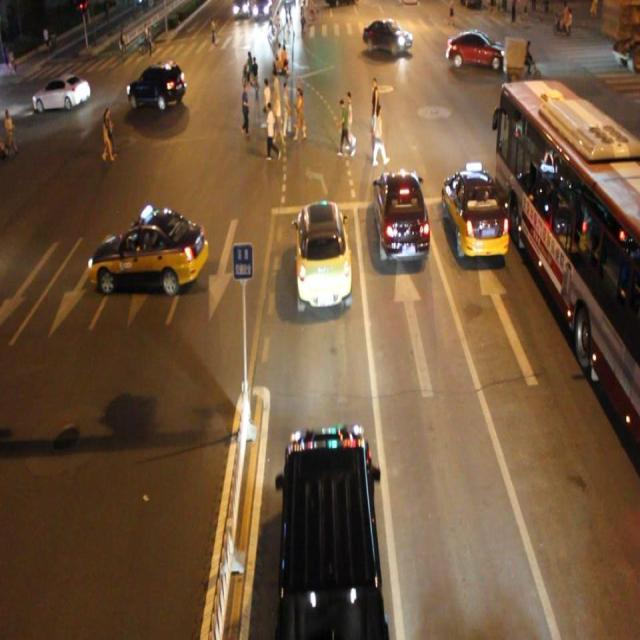car: (276, 418, 386, 640), (88, 207, 208, 292), (294, 198, 353, 308), (441, 170, 508, 260), (372, 167, 429, 264), (126, 58, 186, 108), (445, 28, 503, 72), (361, 17, 412, 58)
van: (495, 78, 640, 452)
